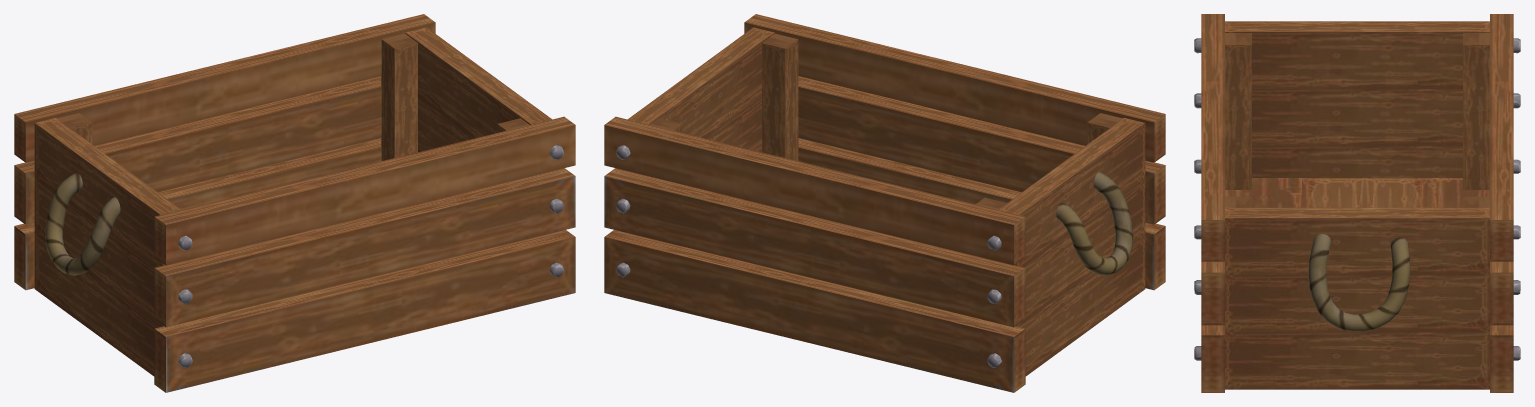
Rendered from quaternius-fantasy-props-farmcrate-empty.glb.
3 renders of one model, left to right at view 1: azimuth 30°, elevation 25°; view 2: azimuth 150°, elevation 25°; view 3: azimuth 270°, elevation 25°, orthographic. The views are drawn at different scales.
Parts seen in each view (by area): view 1: FarmCrate_Empty; view 2: FarmCrate_Empty; view 3: FarmCrate_Empty.
Part boxes in pixels (bbox=[...]): FarmCrate_Empty: bbox=[14, 14, 575, 392]; FarmCrate_Empty: bbox=[604, 14, 1165, 392]; FarmCrate_Empty: bbox=[1194, 14, 1520, 392].
Size of the model in its own units: 0.7 by 0.239 by 0.4061.
2 materials, 2 textured.
